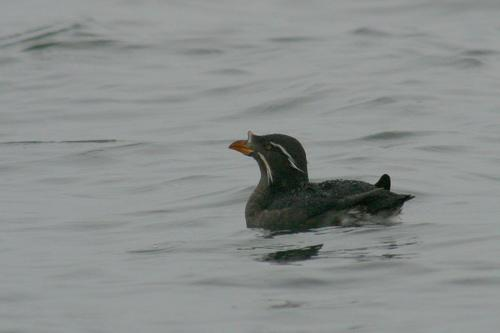008.Rhinoceros_Auklet: (228, 130, 416, 235)
